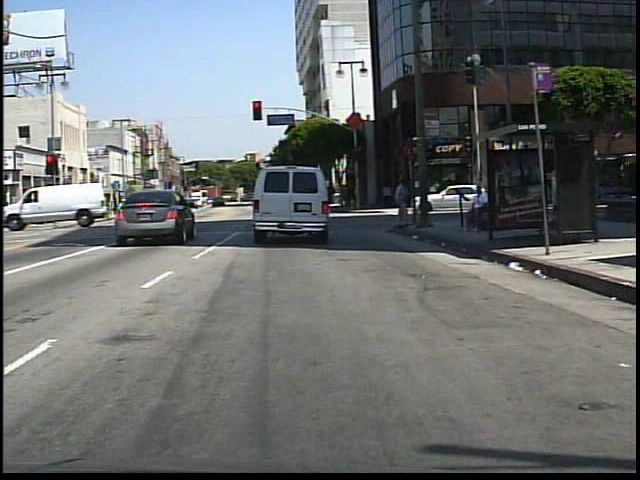person: (387, 176, 415, 234), (465, 184, 493, 236), (115, 193, 130, 218)
